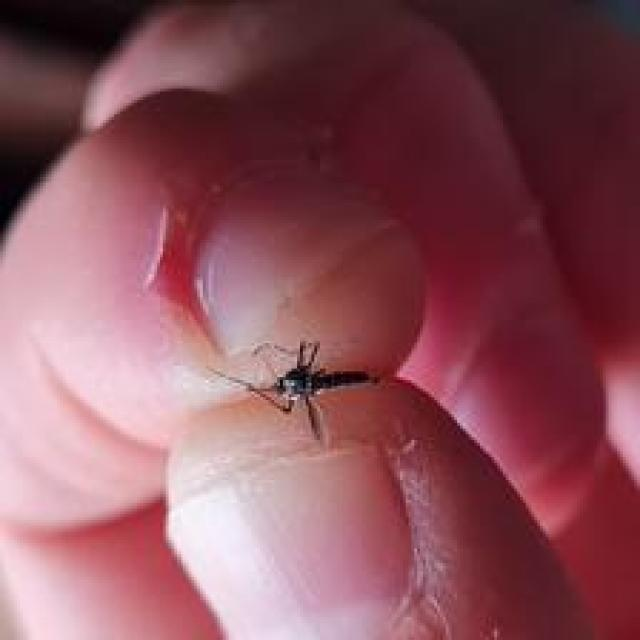Aedes albopictus: (208, 336, 383, 441)
